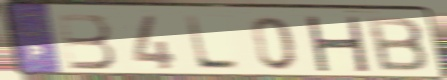0: (250, 15, 299, 71)
4: (131, 13, 179, 71)
B: (364, 15, 432, 73), (55, 12, 120, 71)
H: (302, 14, 371, 74)
L: (182, 14, 242, 72)
